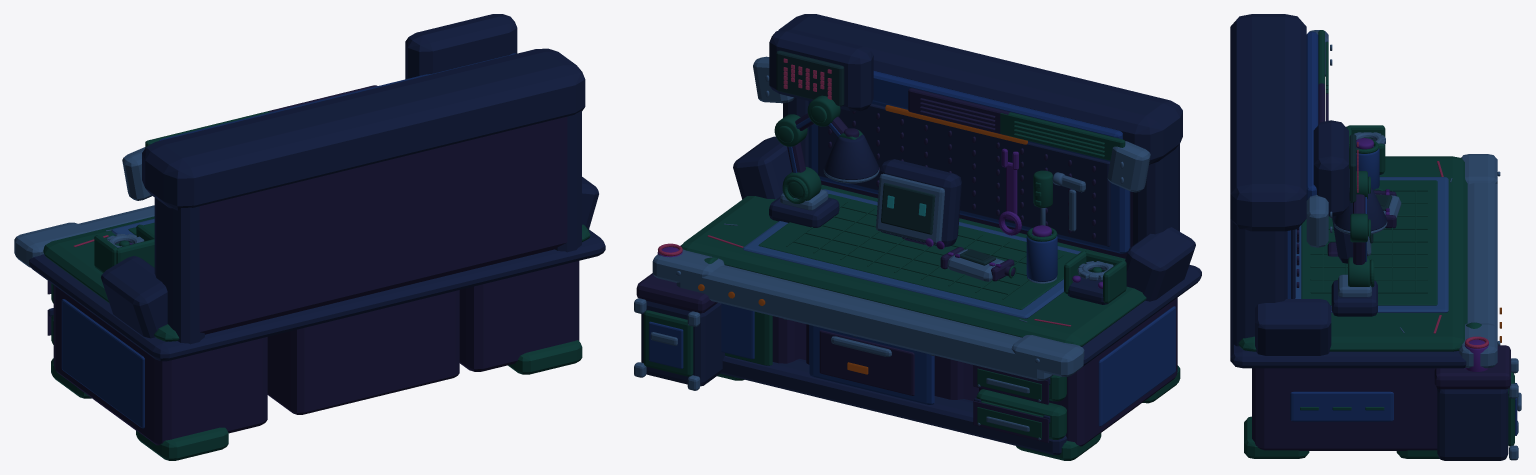
The model's file is prp_base_weapon_workshop_visual_top3d_v003.glb.
The picture shows the model from 3 angles, left to right: view 1: azimuth 30°, elevation 25°; view 2: azimuth 150°, elevation 25°; view 3: azimuth 270°, elevation 25°; orthographic projection. The views are drawn at different scales.
Visible parts, largest first — view 1: Body; view 2: Body, Emissive; view 3: Body.
Part boxes in pixels (x1,y1,x2,y2): Body: (14, 14, 605, 460); Body: (634, 14, 1201, 460); Emissive: (698, 58, 1027, 374); Body: (1230, 14, 1521, 460).
Size of the model in its own units: 4.98 by 3.28 by 3.
Materials: 4 (4 with a texture image).
